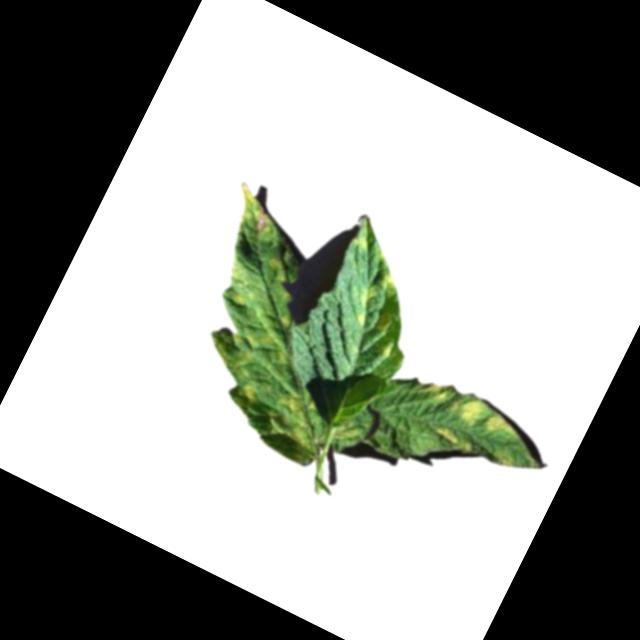Leaf_Mold: (142, 180, 399, 449), (416, 372, 520, 444), (431, 418, 518, 476), (349, 265, 414, 340)
